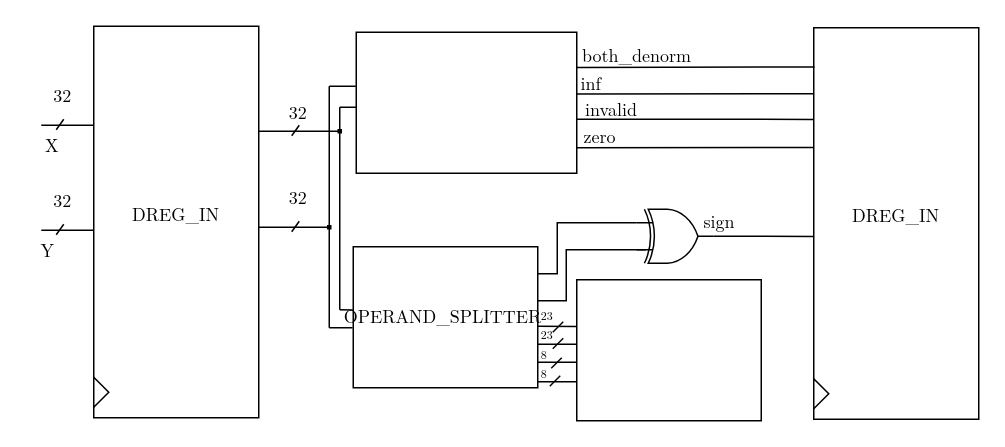
Image size: 1005x447. Some labels were removed from this diagram. Each missing label, with the centre of its shape:
EDGE_CASES_ HANDLER: pixel 466 102
MANTIX_FIXER: pixel 668 349
